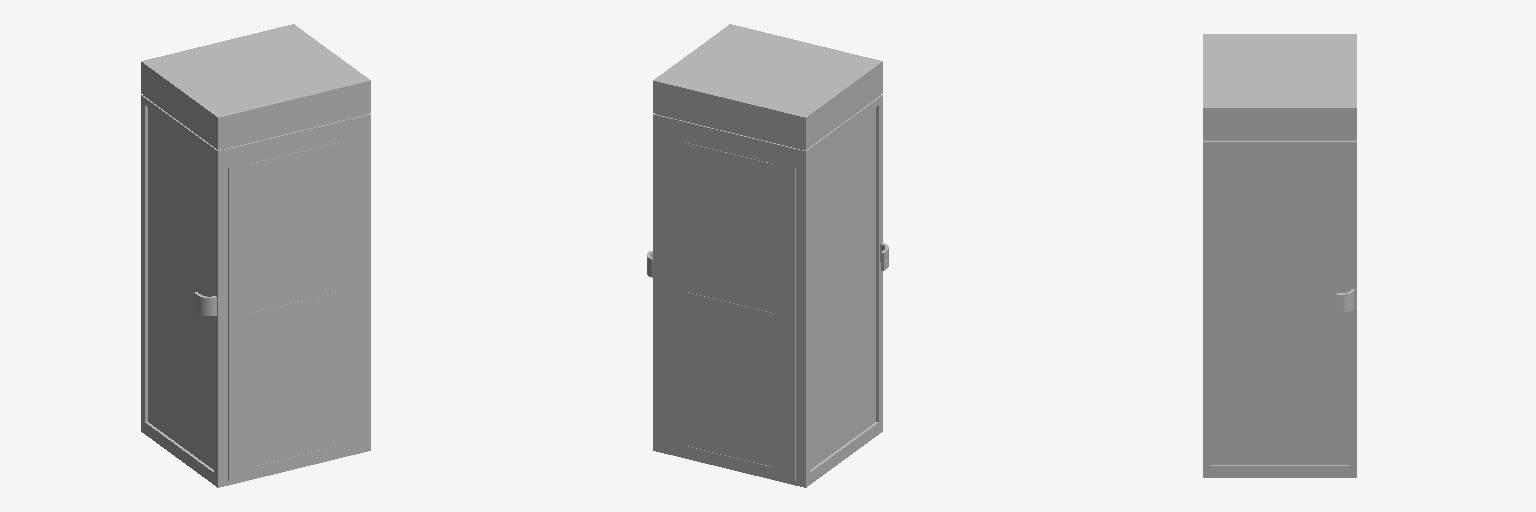
Rendered from rack_clean.obj.
3 views of the same model, side by side, from view 1: azimuth 30°, elevation 25°; view 2: azimuth 150°, elevation 25°; view 3: azimuth 270°, elevation 25° (orthographic).
Visible parts, largest first — view 1: single_server_3d_model; view 2: single_server_3d_model; view 3: single_server_3d_model.
Boxes of the visible parts, x1,y1,x2,y2 form: single_server_3d_model: [141, 24, 370, 487]; single_server_3d_model: [647, 24, 888, 487]; single_server_3d_model: [1203, 34, 1356, 477].
Bounding box in the file's own units: 232 × 463 × 175.